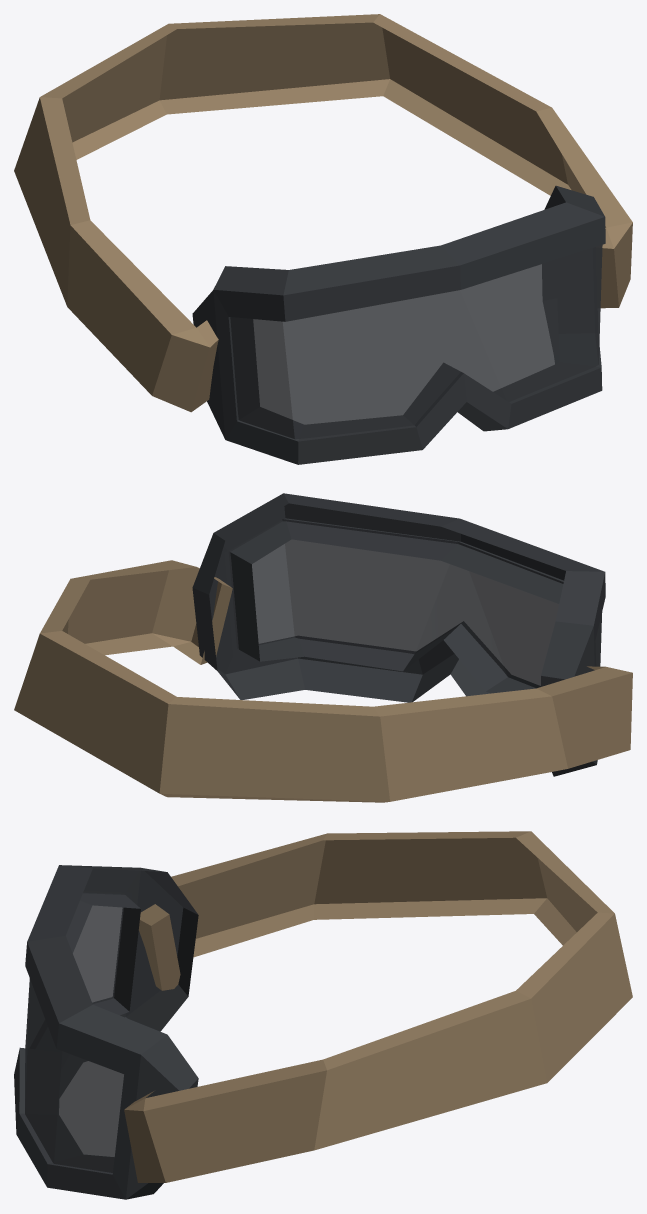
File: SM_Chr_Attach_Helmet_01_Goggles_01.fbx
3 renders of one model, top to bottom at view 1: azimuth 30°, elevation 25°; view 2: azimuth 150°, elevation 25°; view 3: azimuth 270°, elevation 25°, orthographic.
Visible parts, largest first — view 1: SM_Chr_Attach_Helmet_01_Goggles_01, SM_Chr_Attach_Helmet_01_Goggles_01_Glass; view 2: SM_Chr_Attach_Helmet_01_Goggles_01, SM_Chr_Attach_Helmet_01_Goggles_01_Glass; view 3: SM_Chr_Attach_Helmet_01_Goggles_01, SM_Chr_Attach_Helmet_01_Goggles_01_Glass.
Boxes of the visible parts, <box> form: SM_Chr_Attach_Helmet_01_Goggles_01: <box>14,14,632,464</box>; SM_Chr_Attach_Helmet_01_Goggles_01_Glass: <box>230,245,602,439</box>; SM_Chr_Attach_Helmet_01_Goggles_01: <box>14,493,632,802</box>; SM_Chr_Attach_Helmet_01_Goggles_01_Glass: <box>224,519,602,688</box>; SM_Chr_Attach_Helmet_01_Goggles_01: <box>14,831,632,1199</box>; SM_Chr_Attach_Helmet_01_Goggles_01_Glass: <box>25,890,131,1172</box>.
Bounding box in the file's own units: 31.67 × 12.88 × 33.64.
